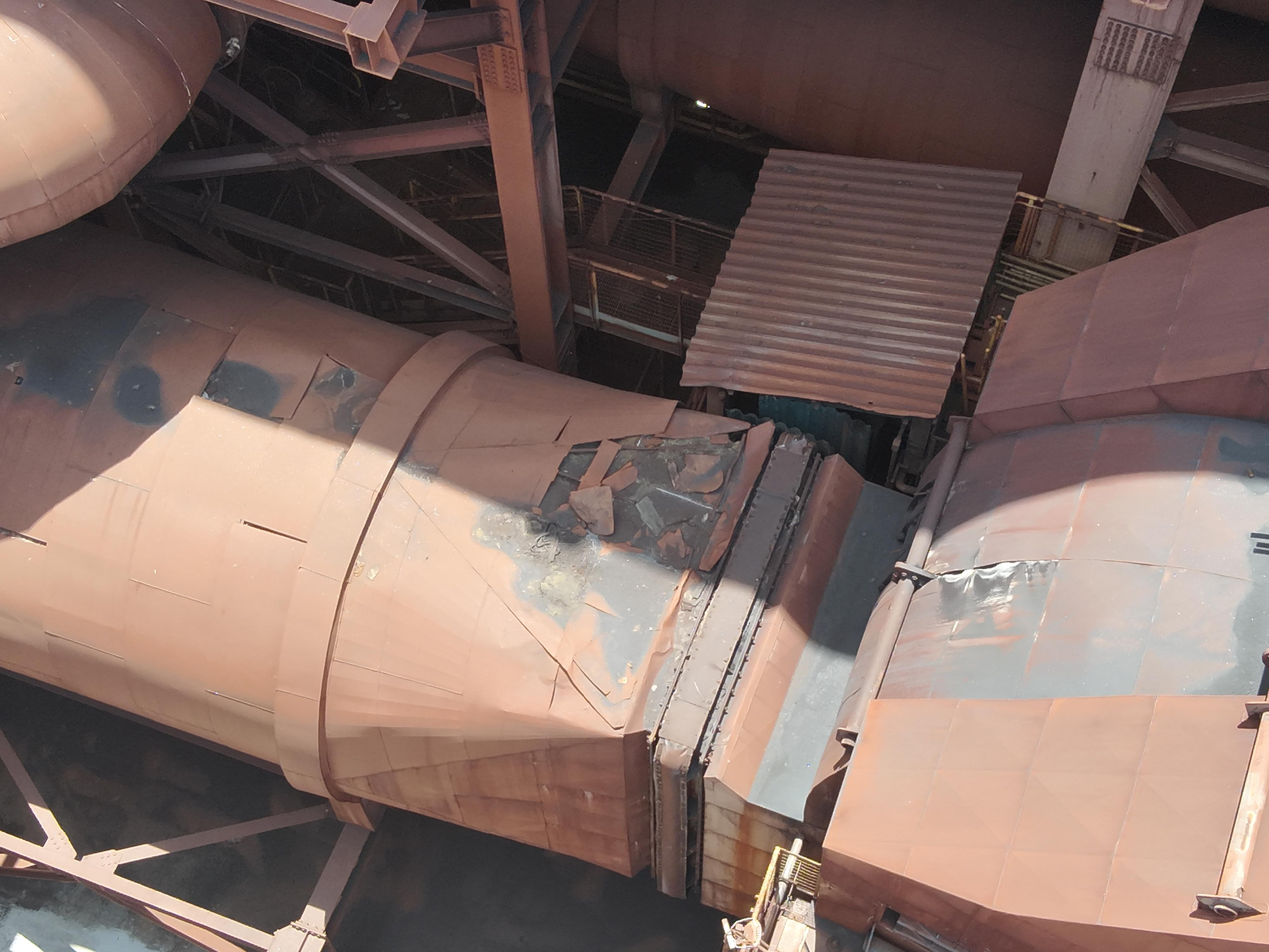Failures: (504, 395, 787, 711), (920, 527, 1072, 652)
